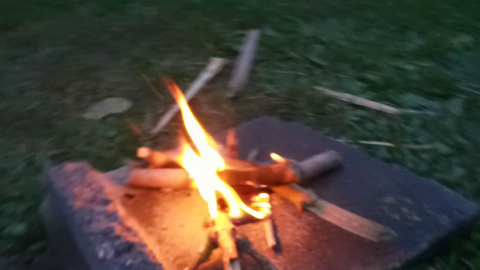fire: (153, 77, 245, 206)
